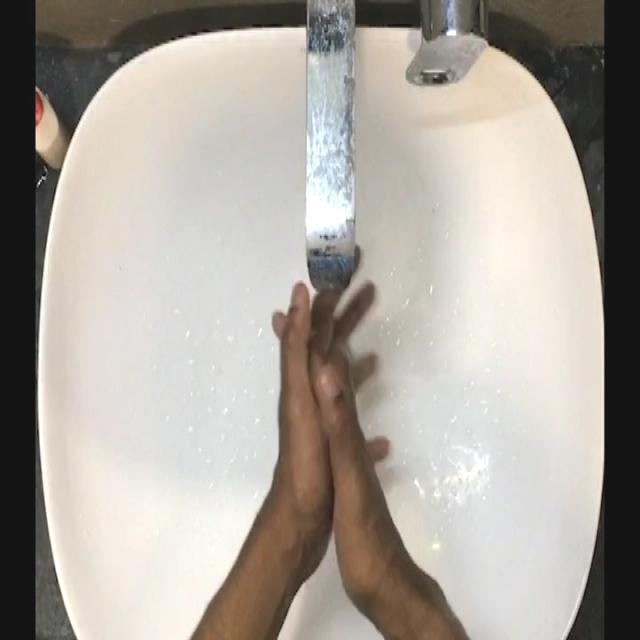step_3: (254, 230, 401, 527)
